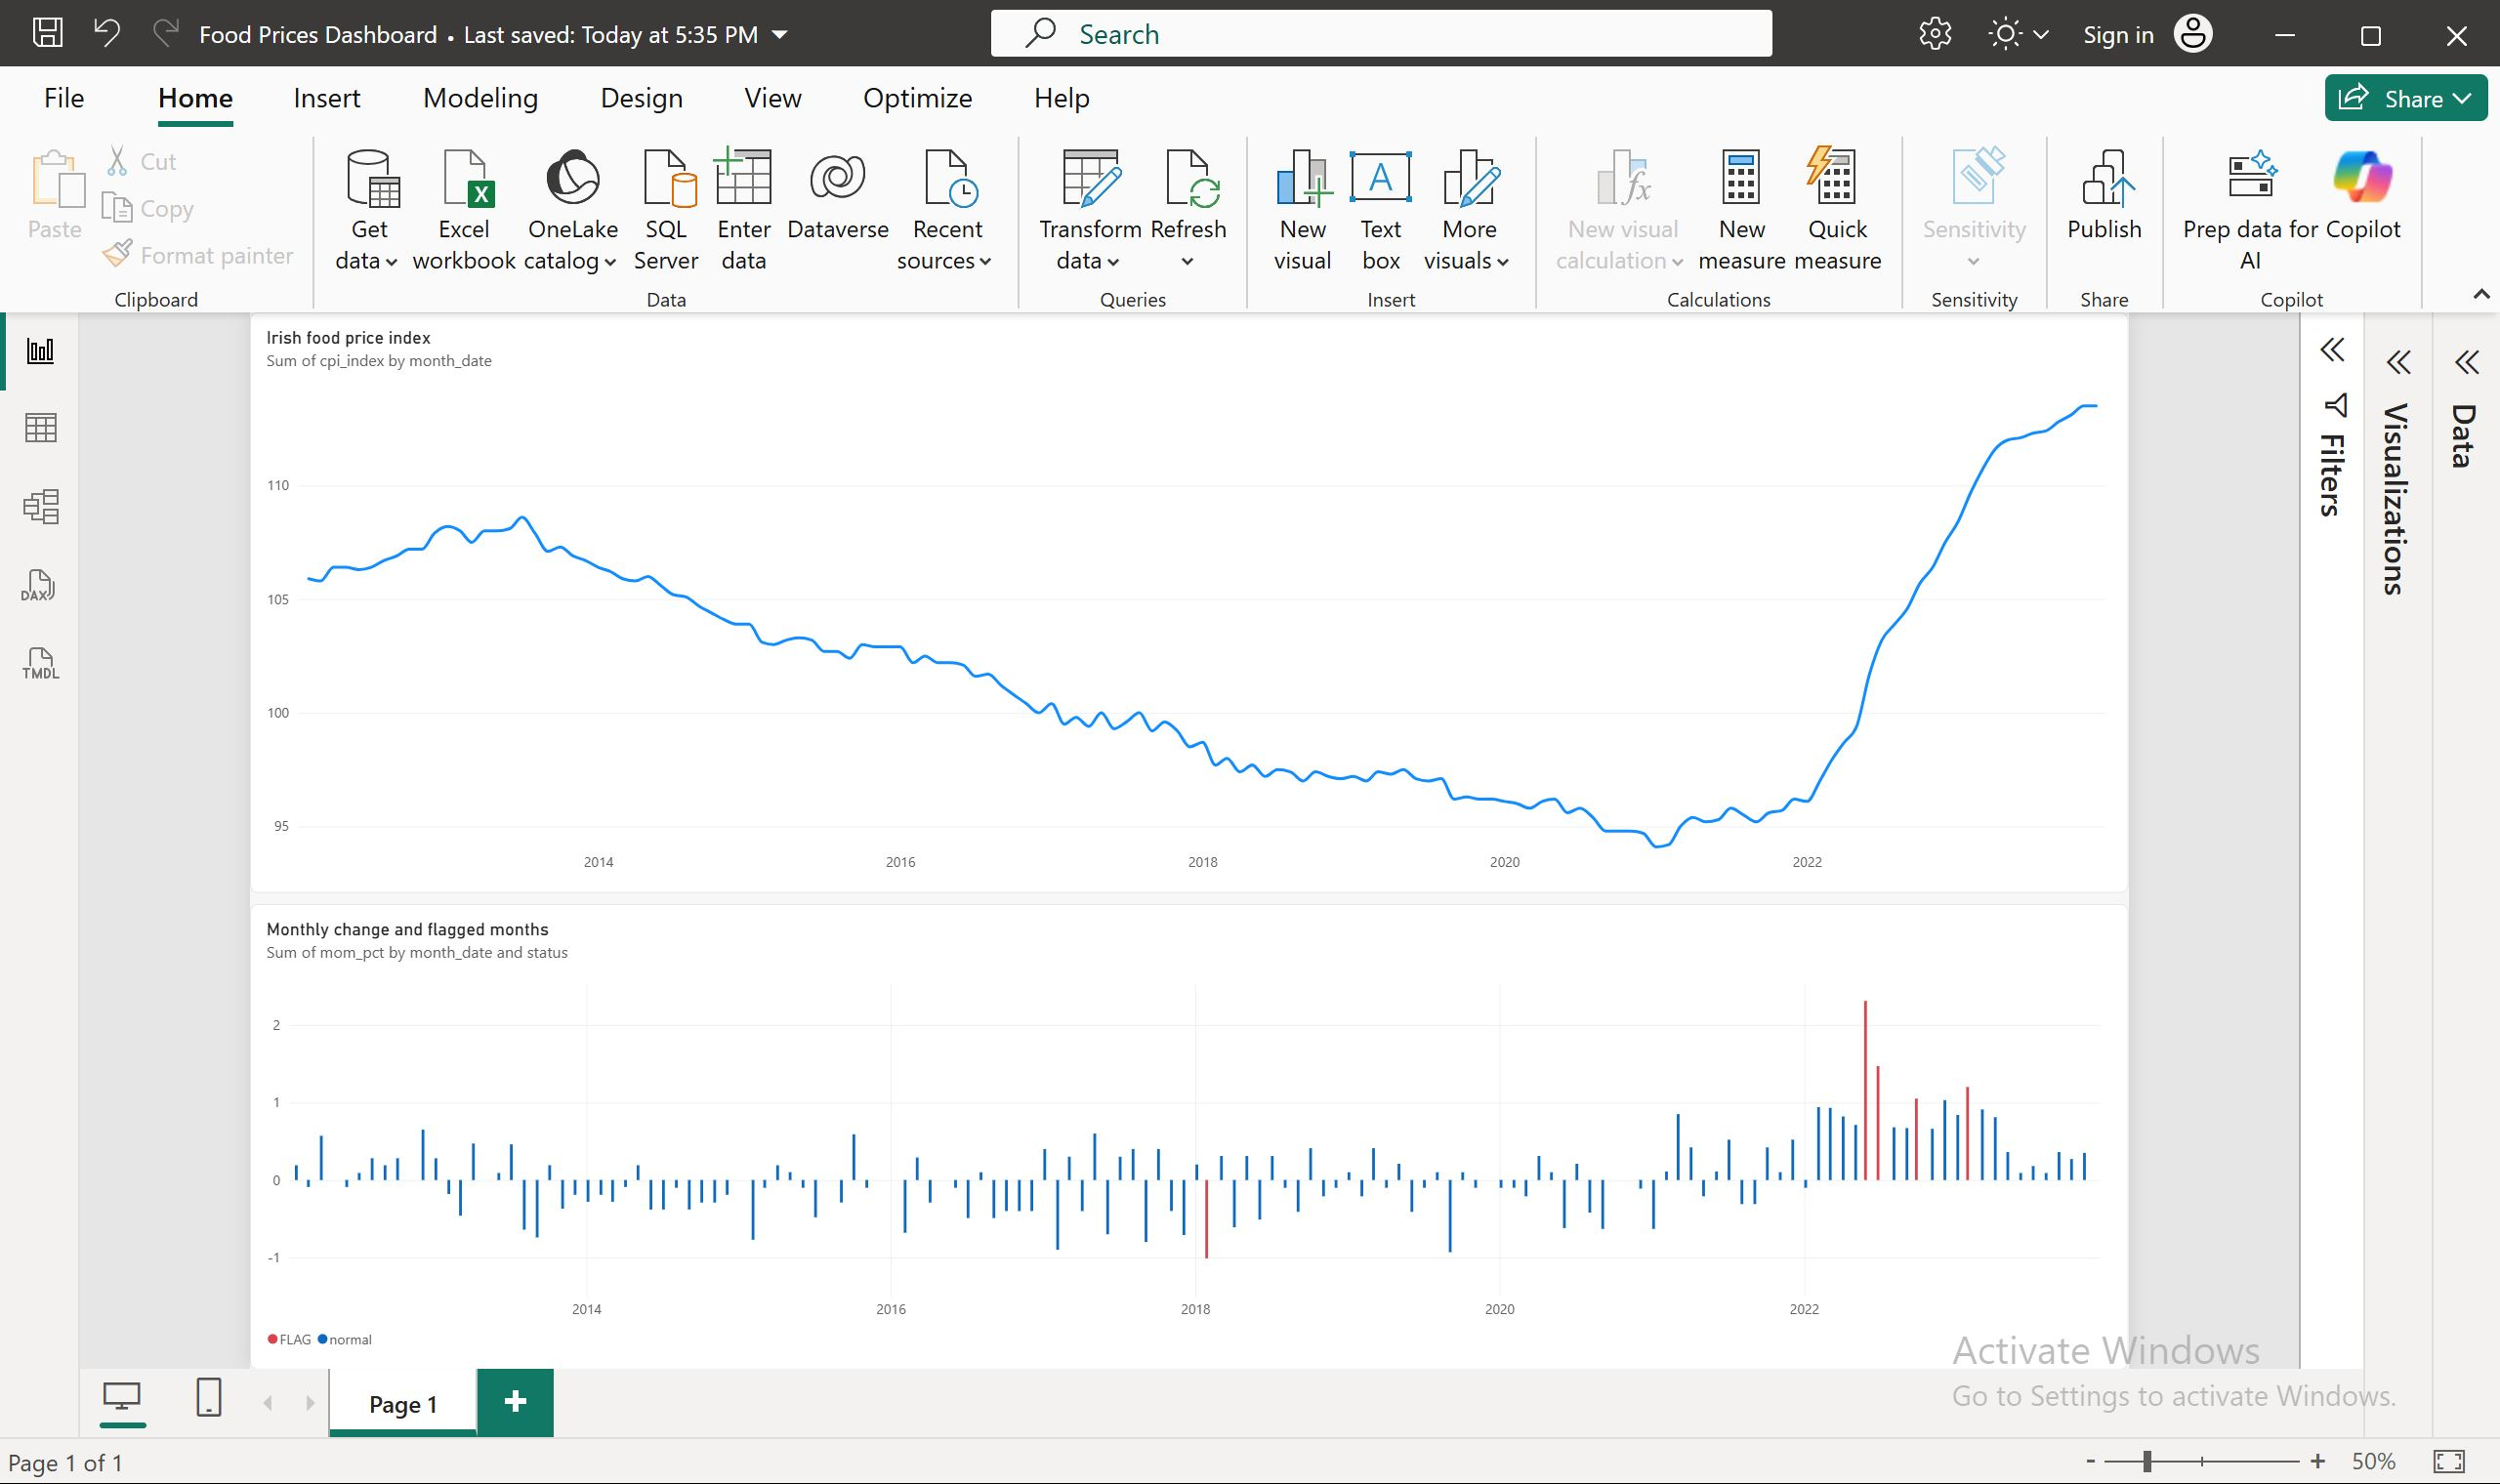

The dashboard page shown, as its layout file describes it:
{"tool":"powerbi","page":{"name":"Page 1","canvas":[1920,1080],"ordinal":0},"visuals":[{"type":"lineChart","title":"Irish food price index","fields":{"Category":["food_mom_flags (2).month_date"],"Y":["Sum(food_mom_flags (2).cpi_index)"]},"box":[0,0,1920,593.7],"z":0},{"type":"clusteredColumnChart","title":"Monthly change and flagged months","fields":{"Category":["food_mom_flags (2).month_date"],"Series":["food_mom_flags (2).status"],"Y":["Sum(food_mom_flags (2).mom_pct)"]},"box":[0,604,1920,476],"z":1}]}

Visuals, with their boxes on the page's 1920x1080 design canvas (x1, y1, x2, y2). These are canvas units, not pixel positions in the 2500x1484 screenshot, which may show the page scaled, cropped or inside an application window:
"Irish food price index" lineChart: 0 0 1920 594
"Monthly change and flagged months" clusteredColumnChart: 0 604 1920 1080
